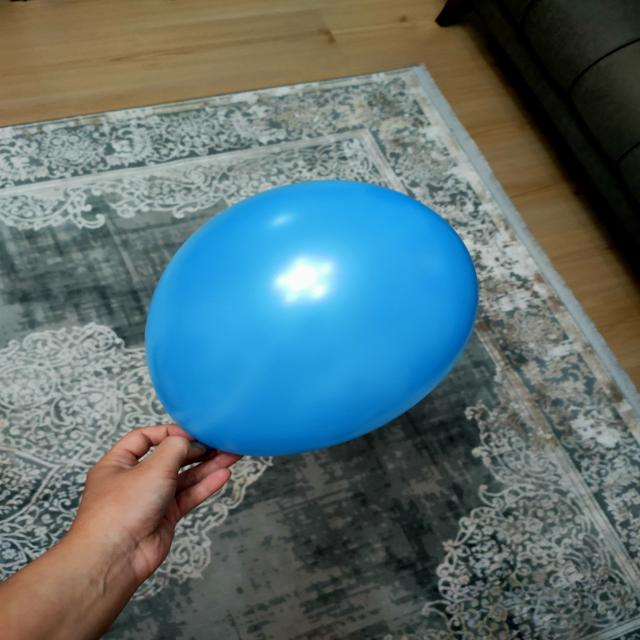blue: (149, 179, 479, 457)
